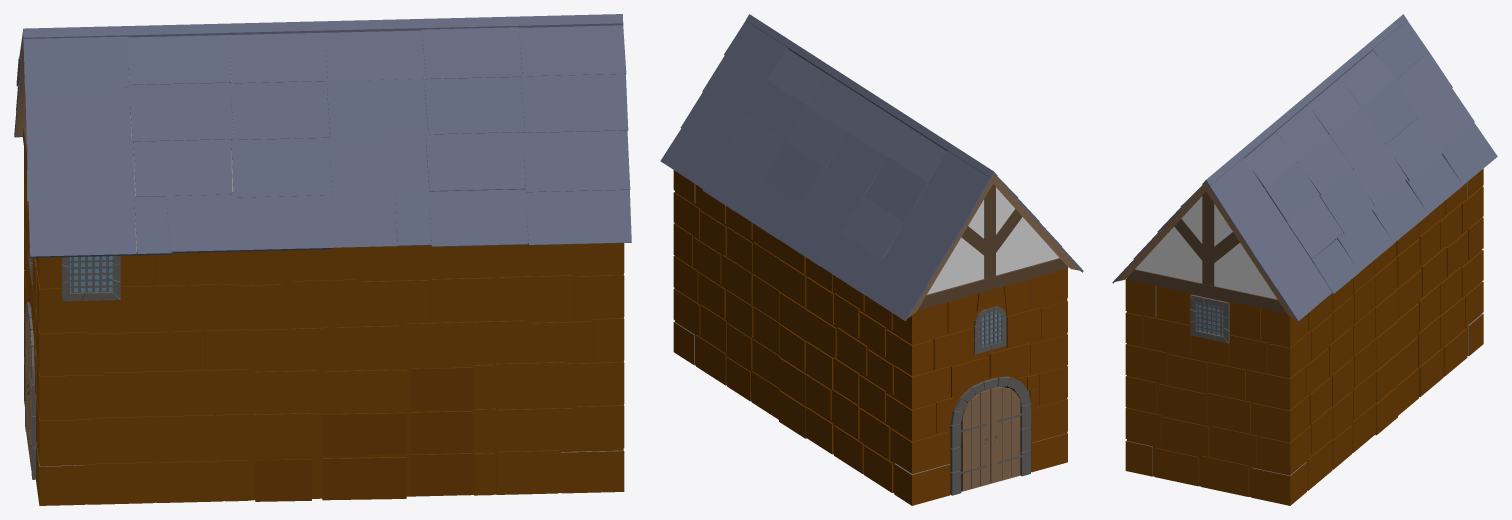
File: House.fbx
3 views of the same model, side by side, from view 1: azimuth 30°, elevation 25°; view 2: azimuth 150°, elevation 25°; view 3: azimuth 270°, elevation 25° (orthographic). The views are drawn at different scales.
Visible parts, largest first — view 1: polySurface53, polySurface443, polySurface442, polySurface453, polySurface445, polySurface444, polySurface452, polySurface446, polySurface454, polySurface455, polySurface450, polySurface563 (+66 smaller); view 2: polySurface53, polySurface449, polySurface213, polySurface447, polySurface1145, polySurface461, polySurface223, polySurface462, polySurface440, polySurface458, polySurface459, polySurface448 (+66 smaller); view 3: polySurface53, polySurface449, polySurface324, polySurface458, polySurface447, polySurface459, polySurface373, polySurface461, polySurface440, polySurface213, polySurface372, polySurface460 (+63 smaller).
Boxes of the visible parts, bbox=[...] form: polySurface53: bbox=[15, 14, 624, 505]; polySurface443: bbox=[129, 77, 524, 141]; polySurface442: bbox=[133, 132, 525, 197]; polySurface453: bbox=[523, 130, 630, 192]; polySurface445: bbox=[27, 140, 134, 201]; polySurface444: bbox=[28, 198, 136, 257]; polySurface452: bbox=[521, 74, 628, 132]; polySurface446: bbox=[25, 87, 131, 144]; polySurface454: bbox=[524, 187, 631, 245]; polySurface455: bbox=[428, 189, 527, 246]; polySurface450: bbox=[23, 36, 129, 89]; polySurface563: bbox=[233, 195, 333, 251]; polySurface53: bbox=[673, 14, 1080, 505]; polySurface449: bbox=[723, 80, 928, 259]; polySurface213: bbox=[805, 257, 836, 357]; polySurface447: bbox=[905, 185, 972, 249]; polySurface1145: bbox=[778, 239, 808, 339]; polySurface461: bbox=[863, 256, 928, 321]; polySurface223: bbox=[752, 223, 779, 321]; polySurface462: bbox=[884, 222, 949, 284]; polySurface440: bbox=[777, 204, 840, 265]; polySurface458: bbox=[680, 92, 745, 154]; polySurface459: bbox=[702, 55, 766, 118]; polySurface448: bbox=[927, 150, 992, 211]; polySurface53: bbox=[1115, 14, 1483, 505]; polySurface449: bbox=[1265, 80, 1443, 258]; polySurface324: bbox=[1126, 269, 1286, 313]; polySurface458: bbox=[1252, 226, 1311, 289]; polySurface447: bbox=[1395, 52, 1452, 116]; polySurface459: bbox=[1230, 191, 1288, 254]; polySurface373: bbox=[1246, 366, 1305, 409]; polySurface461: bbox=[1441, 122, 1497, 184]; polySurface440: bbox=[1372, 180, 1428, 242]; polySurface213: bbox=[1396, 223, 1421, 318]; polySurface372: bbox=[1252, 395, 1309, 441]; polySurface460: bbox=[1210, 158, 1265, 219].
Size of the model in its own units: 170 by 120 by 134.
